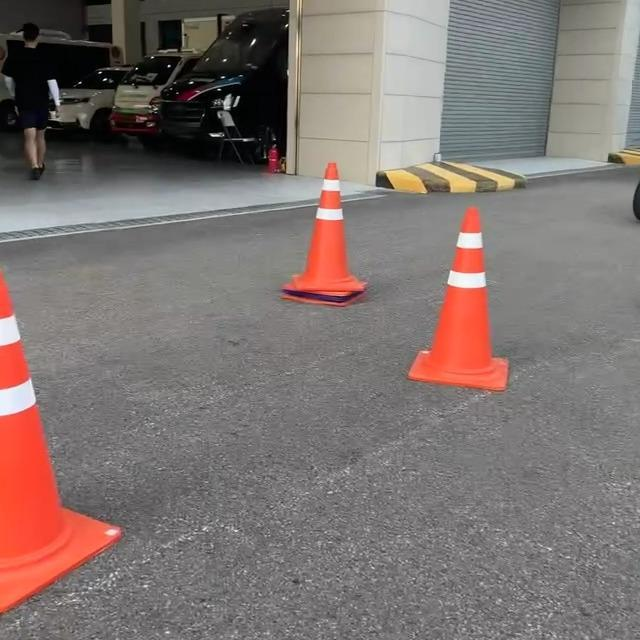fallen_object: (0, 255, 126, 584), (392, 205, 534, 436), (286, 140, 358, 308)
